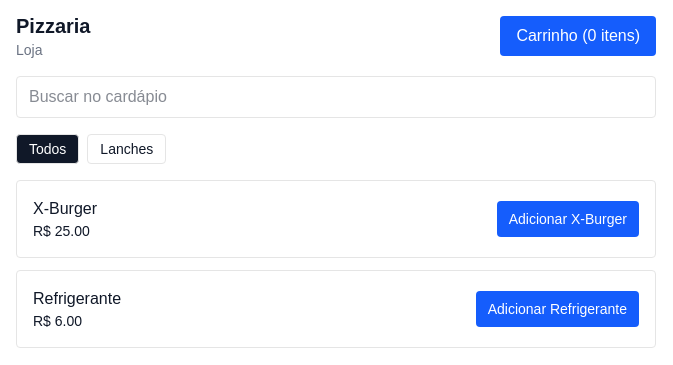
CardapioPage › lista produtos e filtra por busca
Expected: the text "X-Burger" is shown, 33,197 -> 97,221
In the field labelled "Buscar no cardápio": {"x": 336, "y": 97} 16,76 -> 656,118, type "refri"
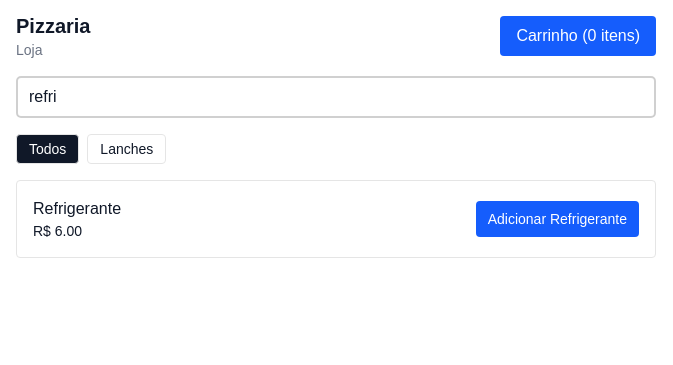
Expected: the text "Refrigerante" is shown, 33,197 -> 121,221
Now the text "X-Burger" is gone
